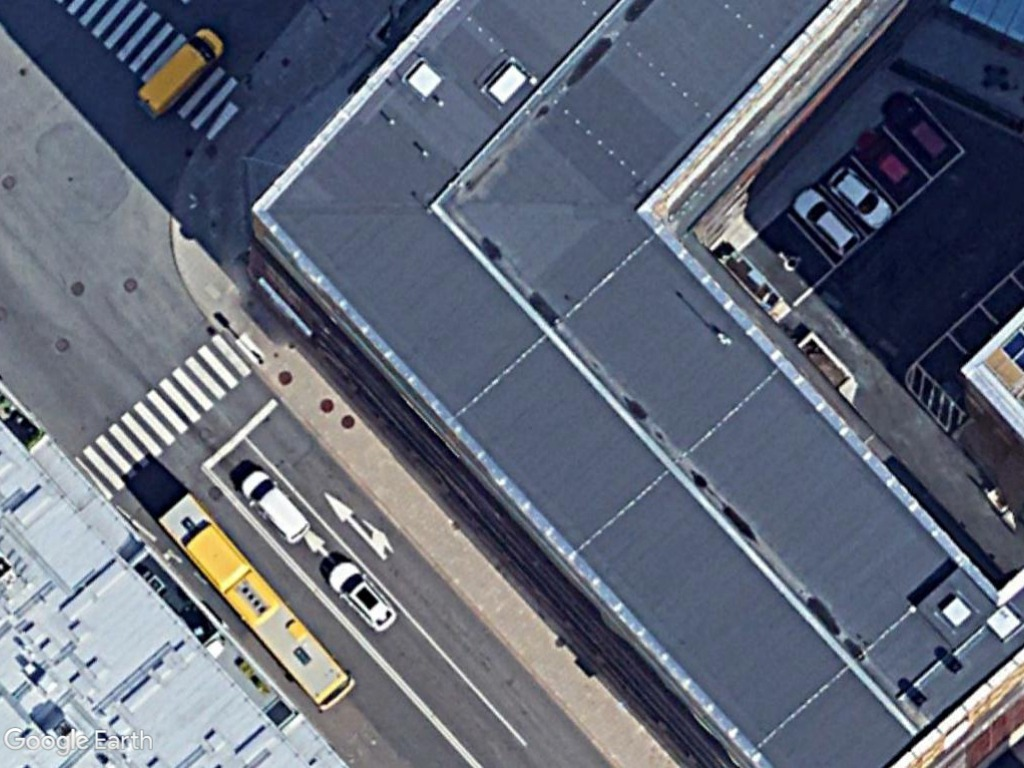bus: (159, 492, 363, 717)
car: (879, 90, 960, 171), (238, 465, 314, 548), (326, 556, 400, 638), (791, 185, 867, 260), (827, 163, 897, 236), (854, 129, 923, 196)
van: (131, 25, 224, 122)
